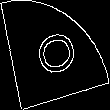O_W: (30, 28, 80, 82)
